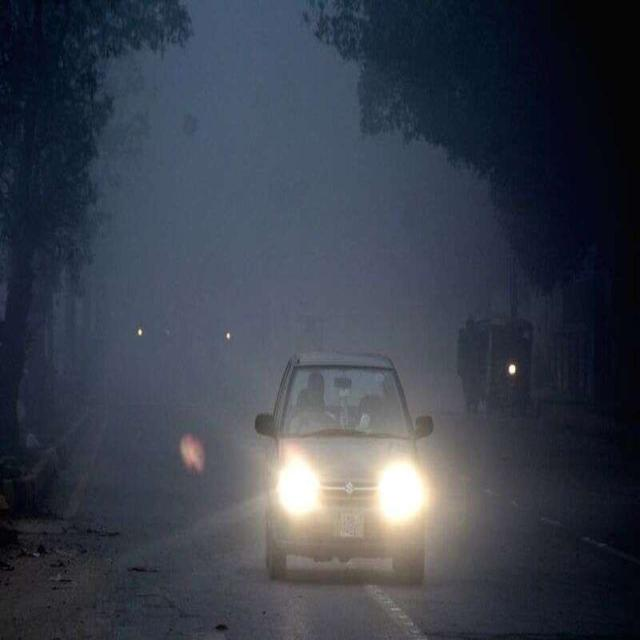car: (254, 353, 436, 582)
